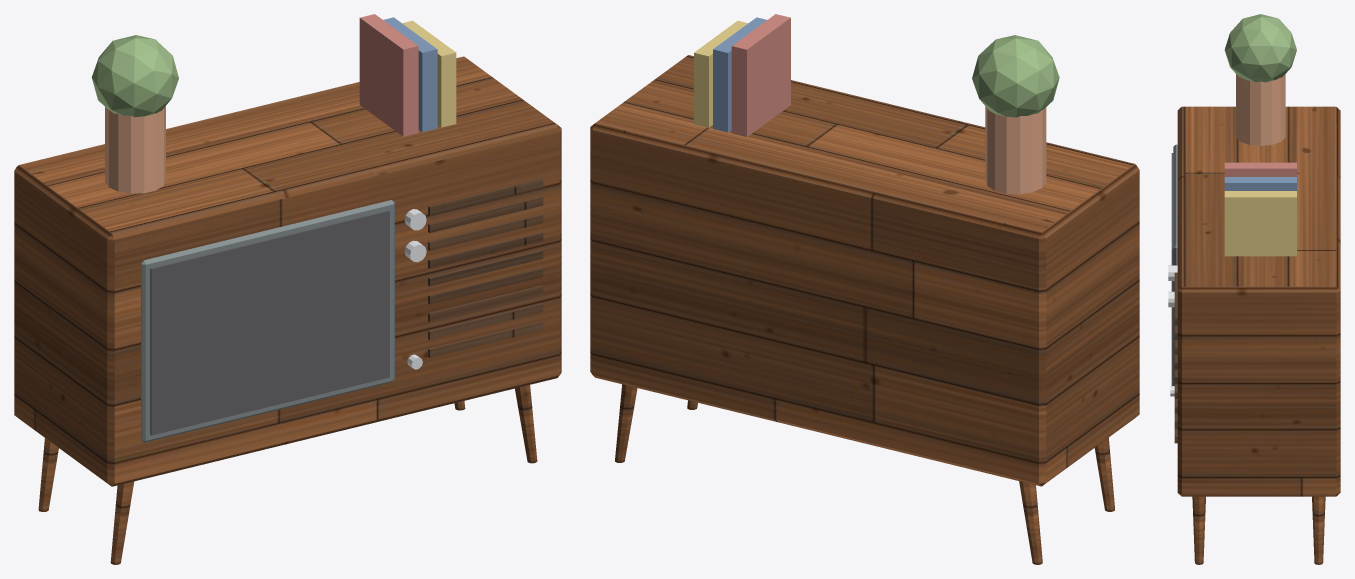
File: tv_console.glb
The picture shows the model from 3 angles, left to right: view 1: azimuth 30°, elevation 25°; view 2: azimuth 150°, elevation 25°; view 3: azimuth 270°, elevation 25°; orthographic projection. The views are drawn at different scales.
Parts seen in each view (by area): view 1: tv_console_teak, tv_console_dark, tv_console_dkwood, tv_console_tv_s, tv_console_book_r, tv_console_leaf, tv_console_pot_o, tv_console_book_b, tv_console_book_y, tv_console_chrome; view 2: tv_console_teak, tv_console_book_r, tv_console_leaf, tv_console_pot_o, tv_console_book_b, tv_console_book_y; view 3: tv_console_teak, tv_console_book_y, tv_console_leaf, tv_console_pot_o, tv_console_book_r, tv_console_book_b, tv_console_tv_s, tv_console_dkwood, tv_console_dark, tv_console_chrome.
Part boxes in pixels (left/top/right/bottom): tv_console_teak: left=14, top=56, right=561, bottom=564; tv_console_dark: left=150, top=210, right=389, bottom=435; tv_console_dkwood: left=428, top=178, right=543, bottom=357; tv_console_tv_s: left=141, top=200, right=394, bottom=442; tv_console_book_r: left=359, top=14, right=418, bottom=136; tv_console_leaf: left=91, top=35, right=178, bottom=117; tv_console_pot_o: left=105, top=106, right=165, bottom=193; tv_console_book_b: left=383, top=17, right=437, bottom=131; tv_console_book_y: left=402, top=20, right=456, bottom=127; tv_console_chrome: left=404, top=209, right=426, bottom=369; tv_console_teak: left=590, top=55, right=1139, bottom=564; tv_console_book_r: left=731, top=14, right=790, bottom=136; tv_console_leaf: left=972, top=35, right=1059, bottom=117; tv_console_pot_o: left=985, top=106, right=1046, bottom=194; tv_console_book_b: left=713, top=17, right=766, bottom=132; tv_console_book_y: left=694, top=20, right=747, bottom=127; tv_console_teak: left=1177, top=106, right=1340, bottom=564; tv_console_book_y: left=1224, top=191, right=1296, bottom=256; tv_console_leaf: left=1224, top=14, right=1296, bottom=82; tv_console_pot_o: left=1236, top=74, right=1285, bottom=145; tv_console_book_r: left=1224, top=162, right=1296, bottom=176; tv_console_book_b: left=1224, top=177, right=1296, bottom=190; tv_console_tv_s: left=1173, top=144, right=1177, bottom=385; tv_console_dkwood: left=1174, top=272, right=1177, bottom=443; tv_console_dark: left=1171, top=153, right=1173, bottom=385; tv_console_chrome: left=1168, top=265, right=1177, bottom=396.
Size of the model in its own units: 1.2 by 1.22 by 0.475.
Materials: 10 (2 with a texture image).
